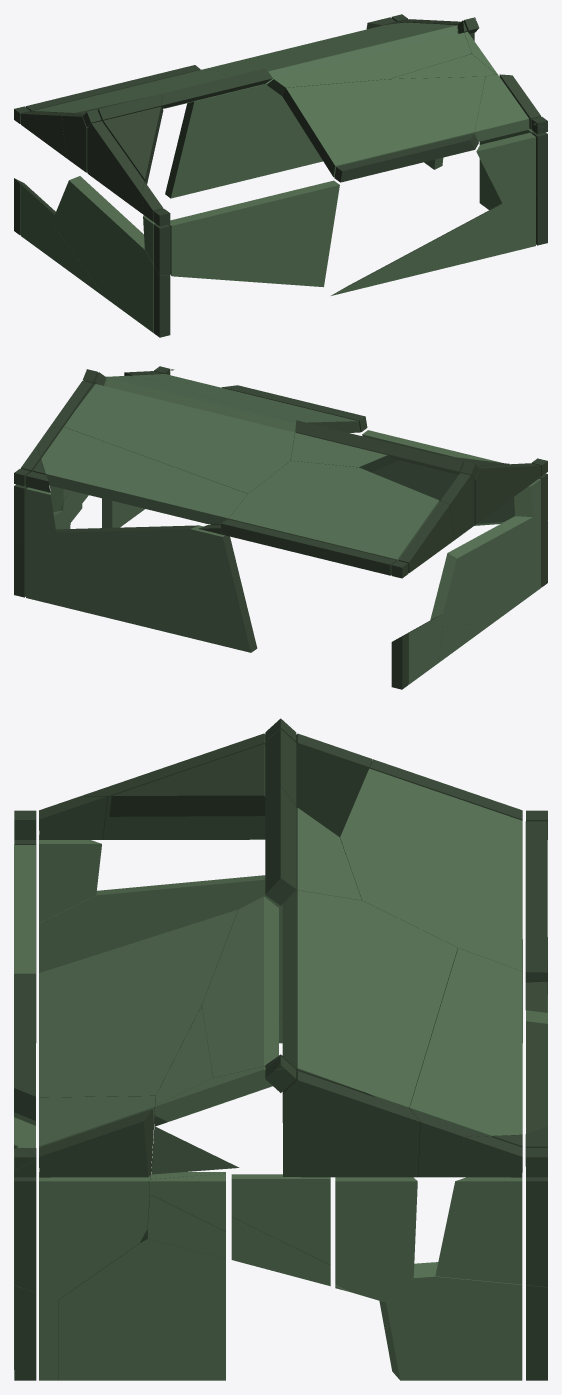
Rendered from SM_TentLong2.obj.
3 views of the same model, one above another, from view 1: azimuth 30°, elevation 25°; view 2: azimuth 150°, elevation 25°; view 3: azimuth 270°, elevation 25° (orthographic). The views are drawn at different scales.
Visible parts, largest first — view 1: tent_long_2; view 2: tent_long_2; view 3: tent_long_2.
Part boxes in pixels (x1,y1,x2,y2): tent_long_2: [14, 14, 547, 337]; tent_long_2: [14, 366, 547, 689]; tent_long_2: [14, 718, 547, 1380].
Size of the model in its own units: 4.47 by 1.9 by 2.91.
